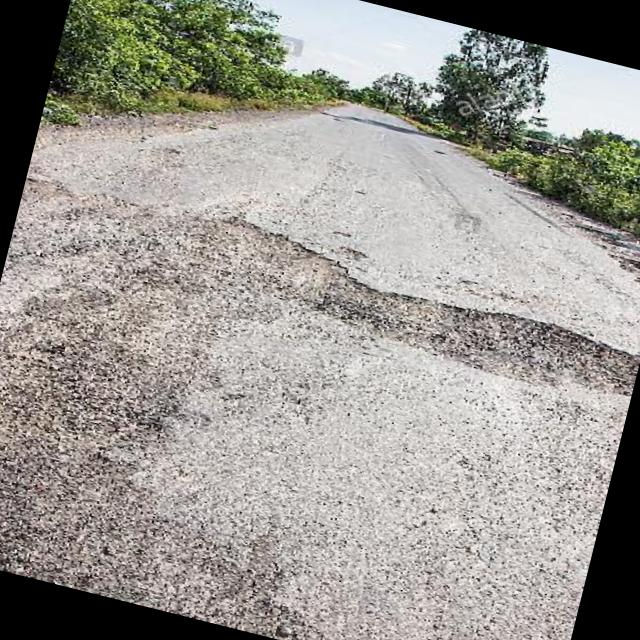Lubang: (325, 286, 640, 395), (183, 217, 349, 310)
